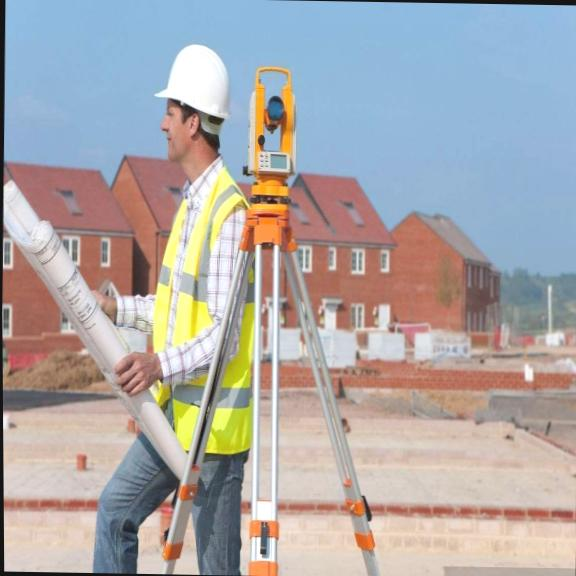safety_vest: (140, 155, 246, 473)
